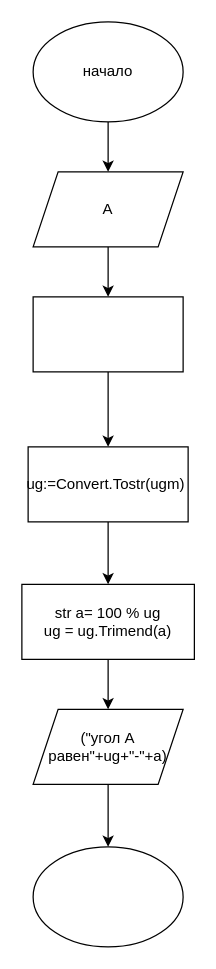
Some shapes in this 216 by 969 pixel diagram are drawn without their labels. Here are the shapes that lost their labels. From the top down, the centre of each, then its label:
At pixel 107 334: "ugm:= round(A/6)".
At pixel 107 896: "конец".
